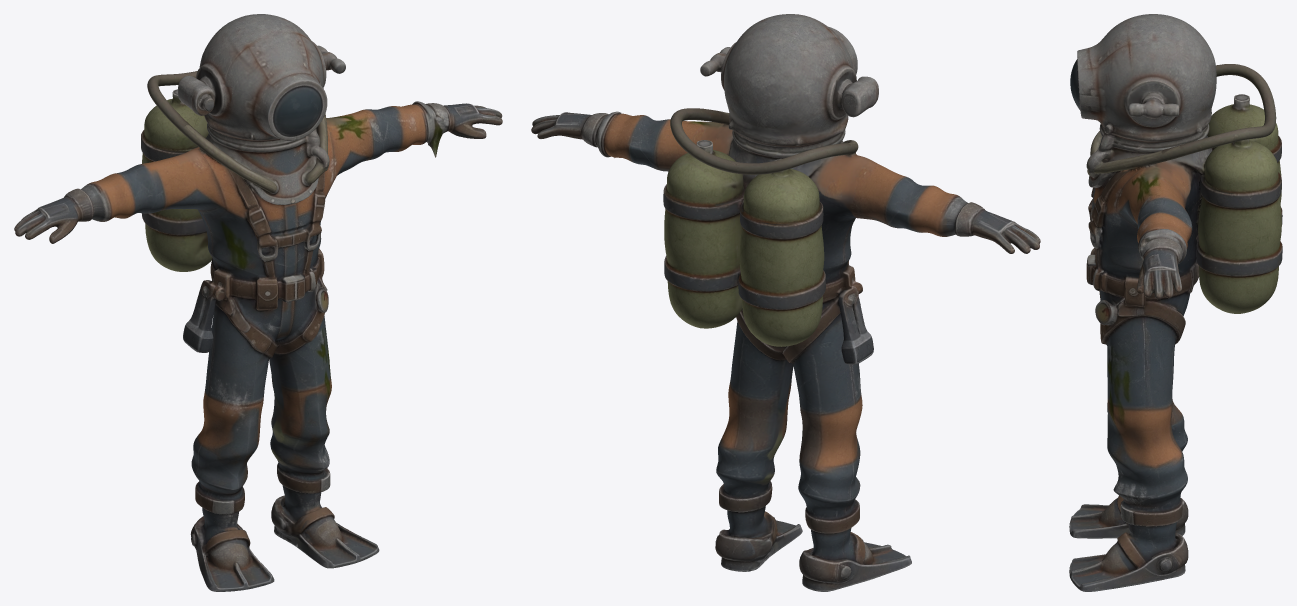
The model's file is diver.glb.
3 renders of one model, left to right at view 1: azimuth 30°, elevation 25°; view 2: azimuth 150°, elevation 25°; view 3: azimuth 270°, elevation 25°, orthographic. The views are drawn at different scales.
Visible parts, largest first — view 1: mesh_node; view 2: mesh_node; view 3: mesh_node.
Part boxes in pixels (x1,y1,x2,y2): mesh_node: (14,14,502,591); mesh_node: (531,14,1040,591); mesh_node: (1069,14,1282,591).
Bounding box in the file's own units: 1.84 × 1.9 × 0.6917.
Materials: 1 (1 with a texture image).
